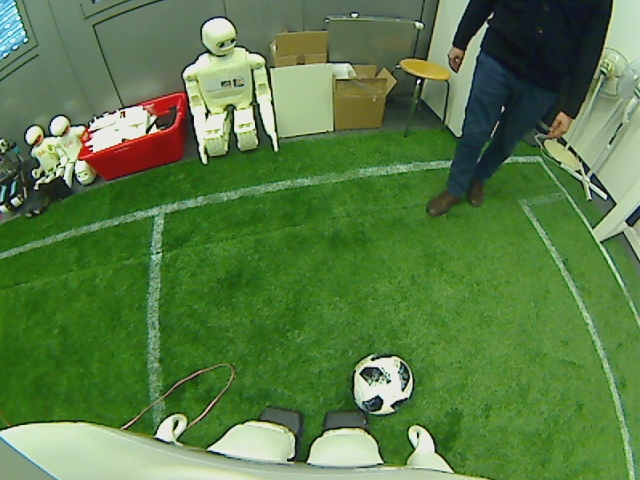ball: (351, 353, 415, 417)
